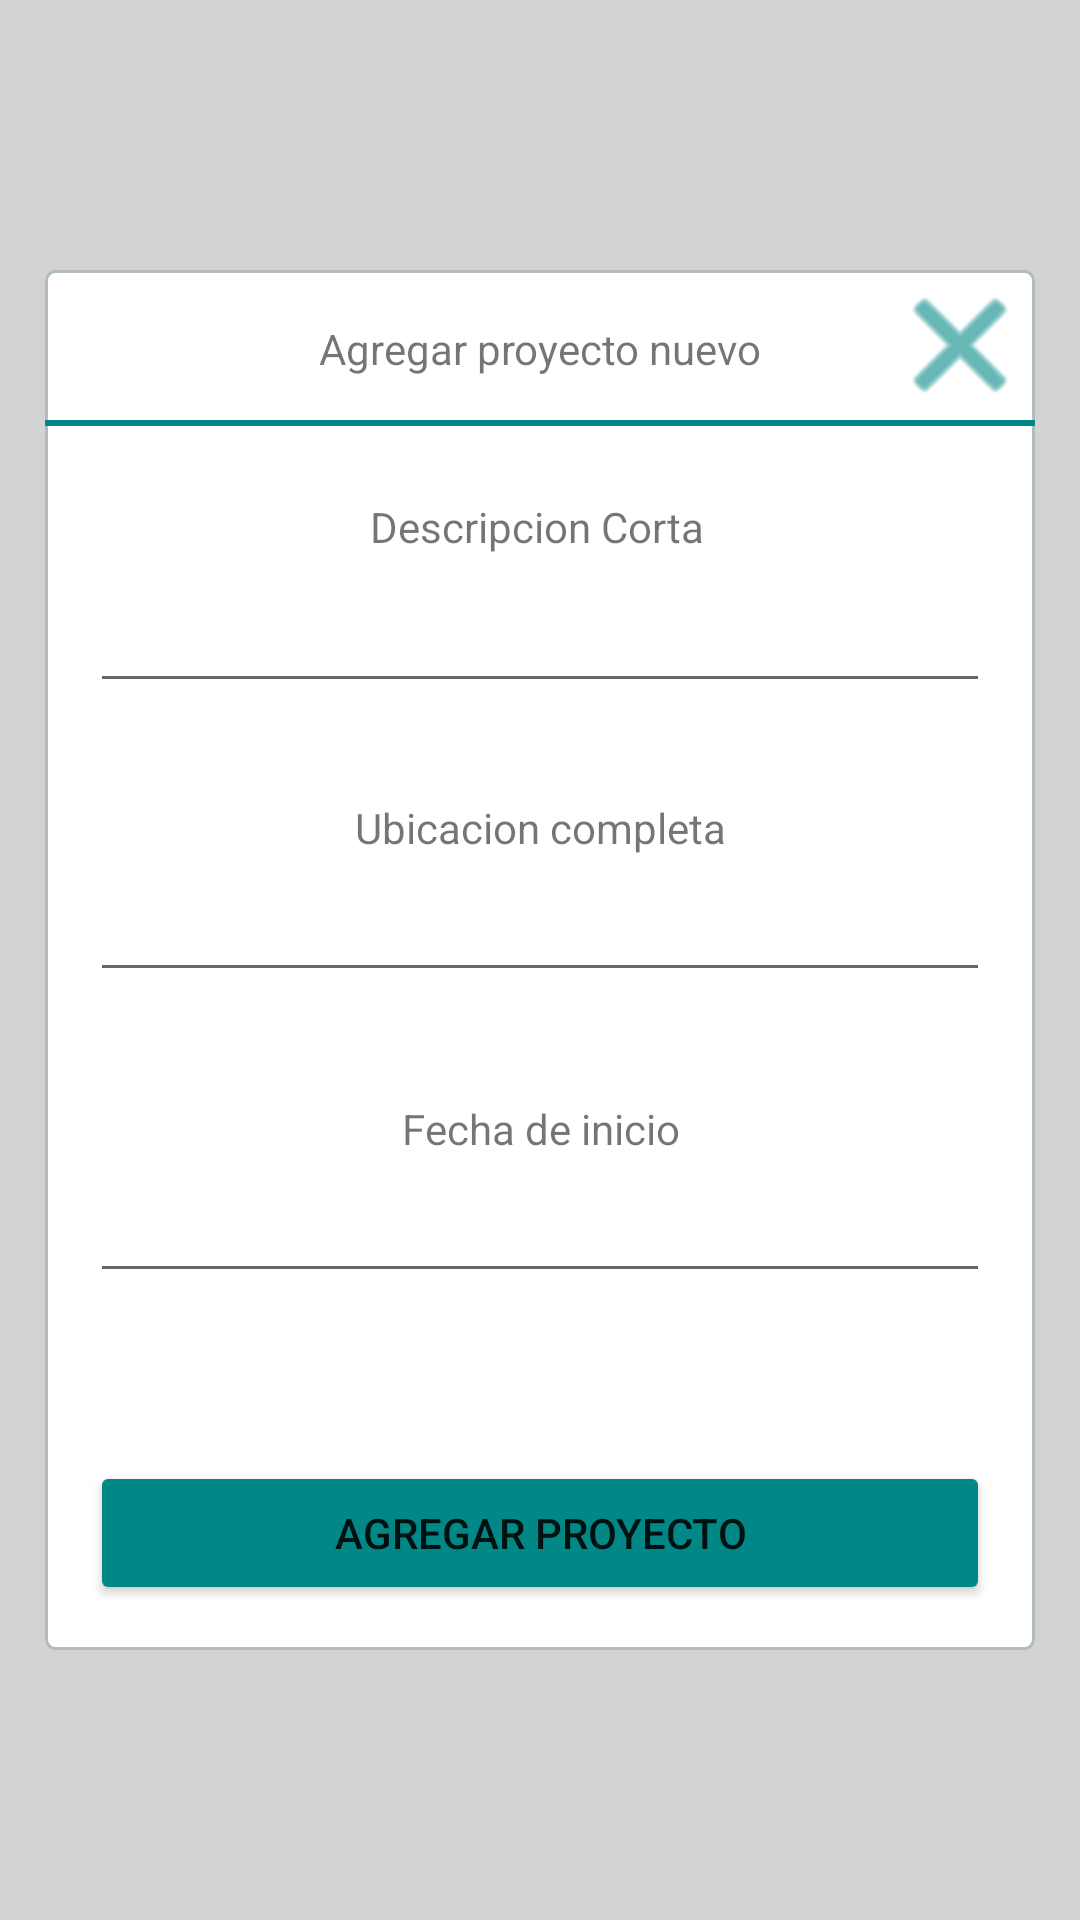

Screen size 1080×1920. Icon name, then its center in pixels as (x=x, y=y):
close clear cancel: (x=960, y=345)
